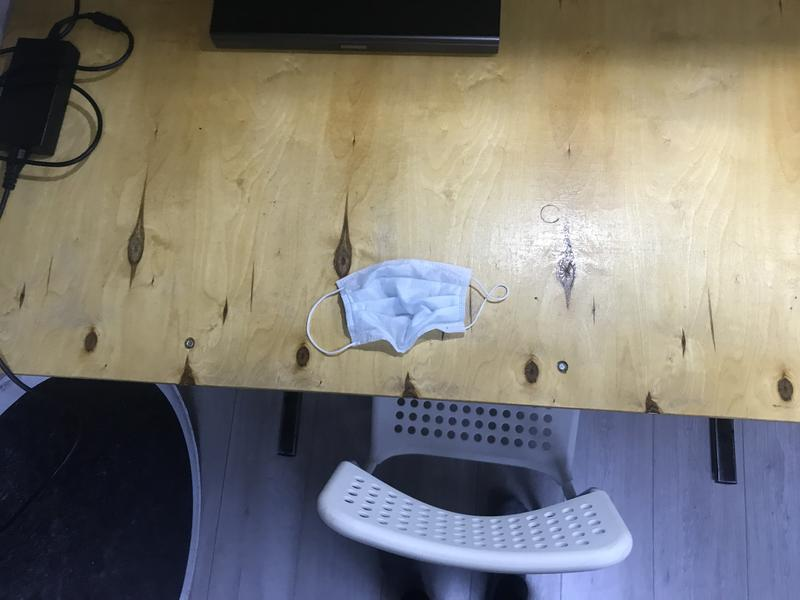medical_mask: (307, 259, 509, 355)
